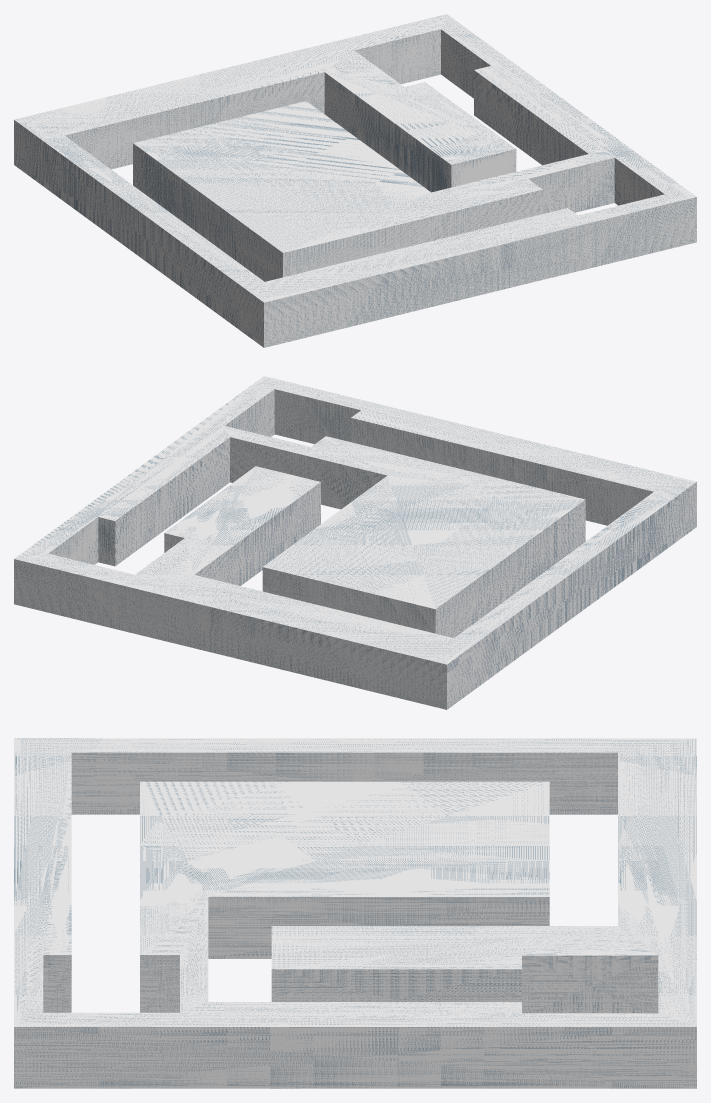
3 views of the same model, one above another, from view 1: azimuth 30°, elevation 25°; view 2: azimuth 150°, elevation 25°; view 3: azimuth 270°, elevation 25° (orthographic). The views are drawn at different scales.
Visible parts, largest first — view 1: Model; view 2: Model; view 3: Model.
Part boxes in pixels (x1,y1,x2,y2): Model: [14, 14, 696, 347]; Model: [14, 376, 696, 709]; Model: [14, 738, 696, 1088].
Size of the model in its own units: 0.1 by 0.01 by 0.1.
